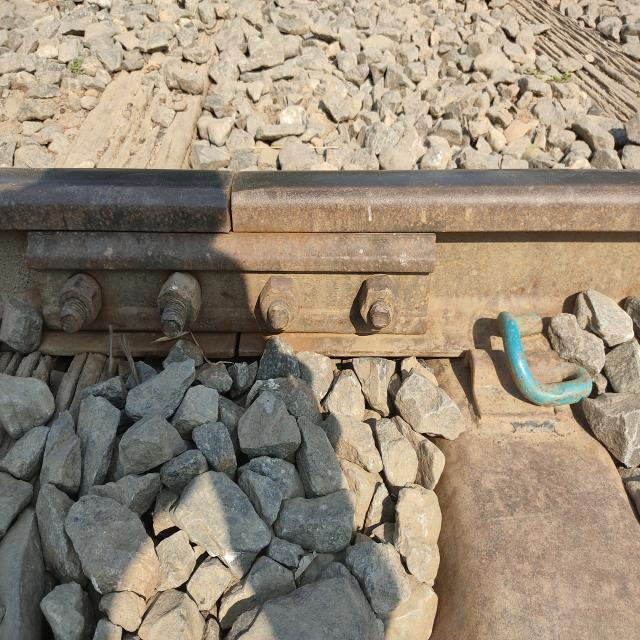Faults: (213, 165, 246, 262)
